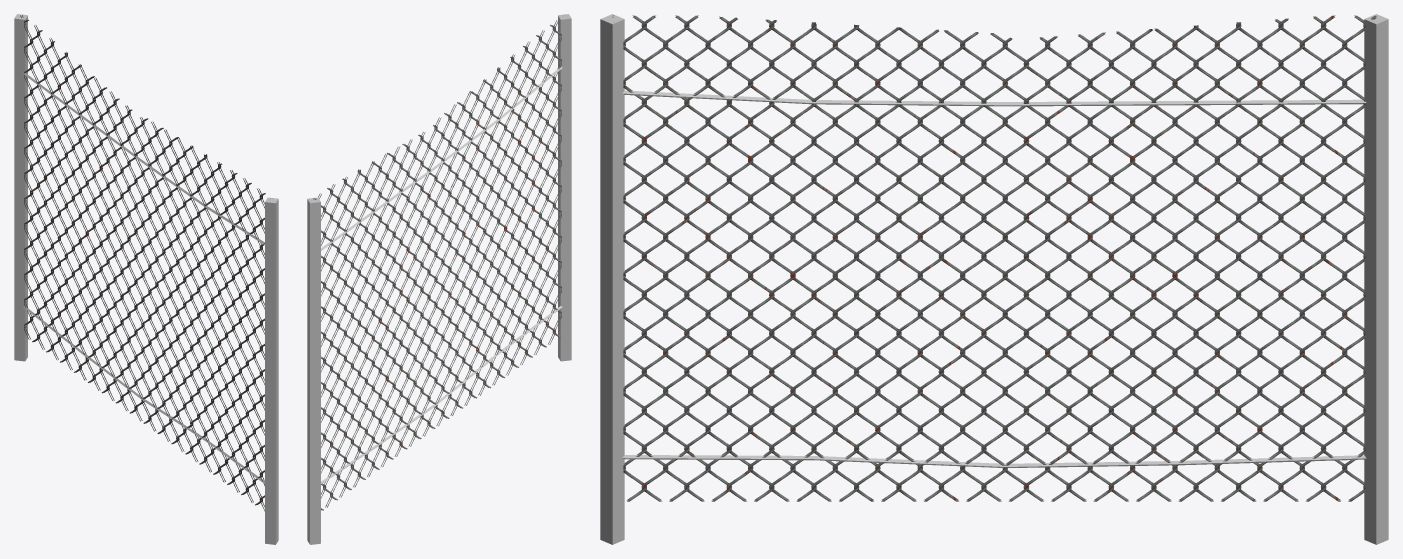
Rendered from bz_fence_wire_02.fbx.
The picture shows the model from 3 angles, left to right: view 1: azimuth 30°, elevation 25°; view 2: azimuth 150°, elevation 25°; view 3: azimuth 270°, elevation 25°; orthographic projection. The views are drawn at different scales.
Parts seen in each view (by area): view 1: bz_fence_wire_01, bz_fence_wire_02; view 2: bz_fence_wire_01, bz_fence_wire_02; view 3: bz_fence_wire_01, bz_fence_wire_02.
Boxes of the visible parts, x1,y1,x2,y2 form: bz_fence_wire_01: (20, 15, 265, 511); bz_fence_wire_02: (14, 14, 278, 544); bz_fence_wire_01: (313, 15, 565, 510); bz_fence_wire_02: (307, 14, 571, 544); bz_fence_wire_01: (612, 15, 1376, 501); bz_fence_wire_02: (600, 14, 1388, 544).
Size of the model in its own units: 8 by 189 by 258.
